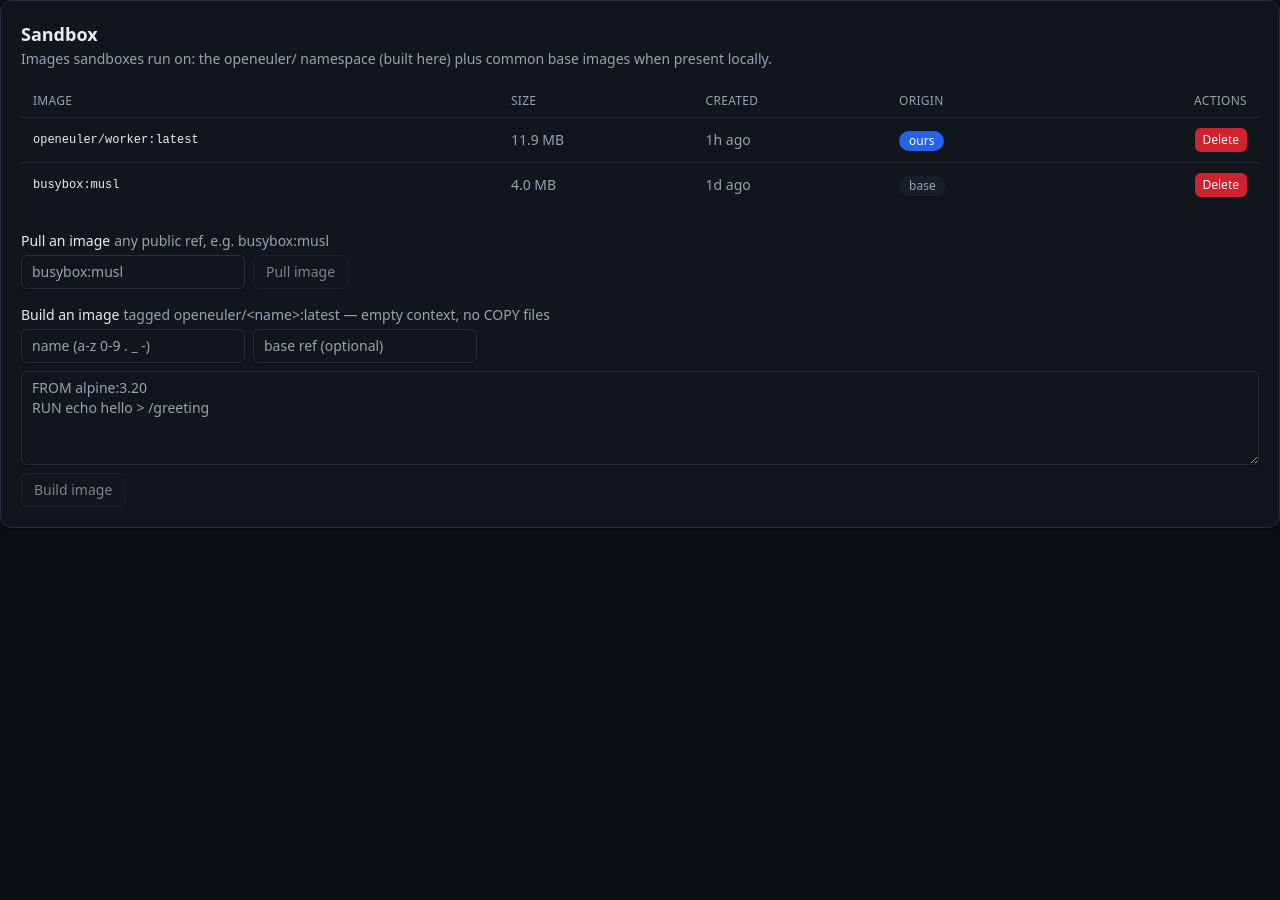
Test: delete flow (#100) › surfaces a 409 IMAGE_IN_USE rejection as a danger toast
This screenshot has width=1280, height=900.
Step 1. Click the button "Delete" in the row of "openeuler/worker:latest" → (1221, 140), box [1194,128,1247,152]
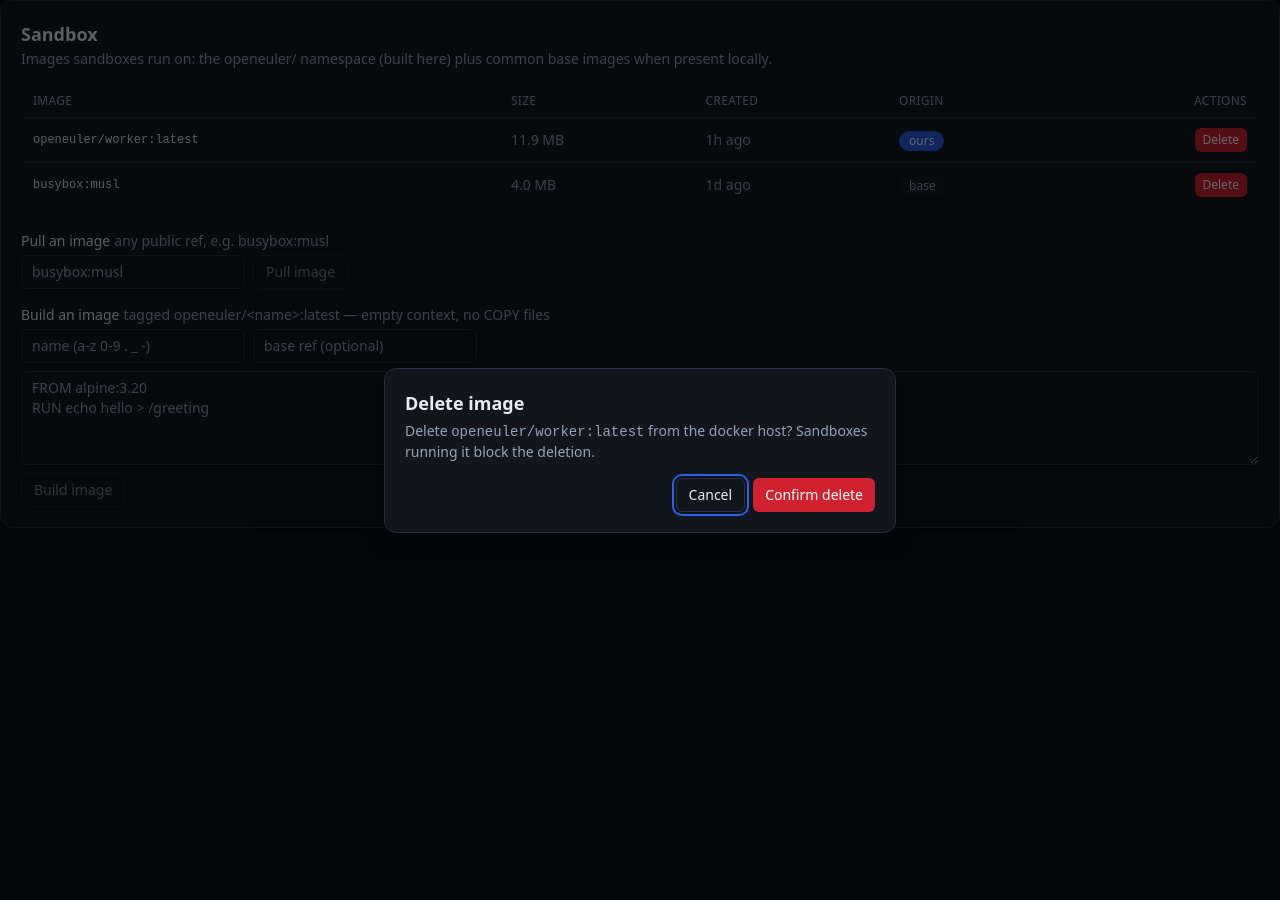
Step 2. Click the button "Confirm delete" → (814, 494), box [753,478,875,512]
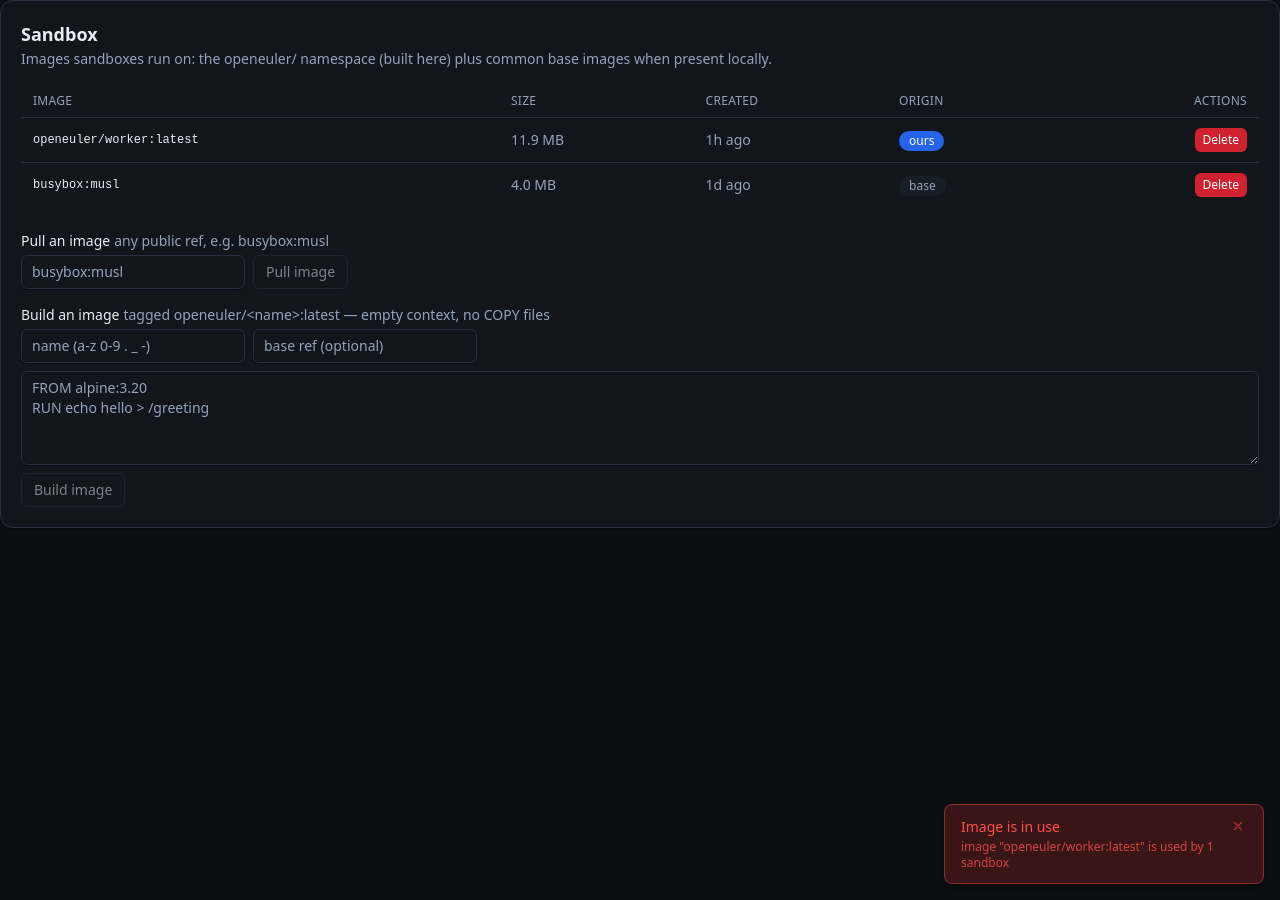
Expected: the text "Image is in use" is shown, [961,817,1060,836]
Expected: the text "is used by 1 sandbox" is shown, [961,838,1214,871]
